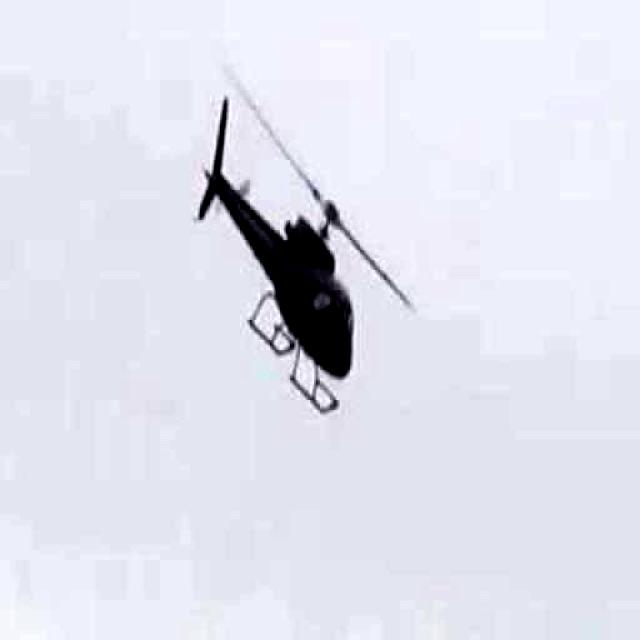drone: (118, 54, 444, 460)
